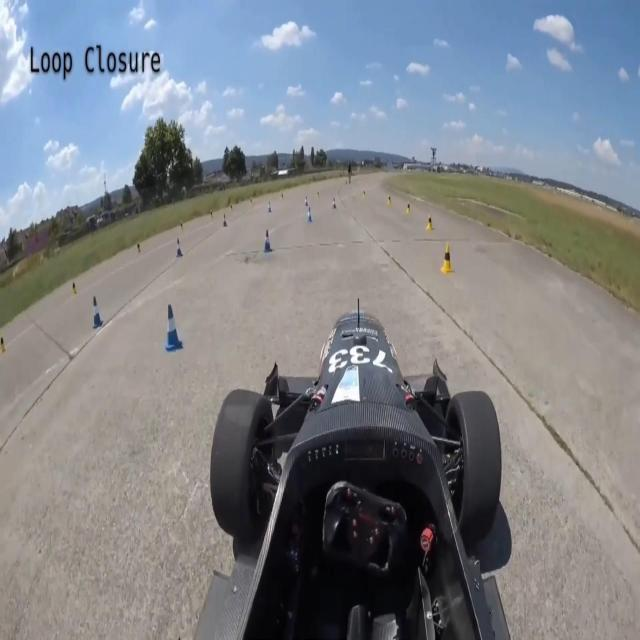blue_cone: (164, 303, 183, 353), (92, 296, 104, 330), (264, 228, 272, 253), (176, 238, 183, 259)
yellow_cone: (440, 242, 454, 274), (427, 212, 434, 231)
